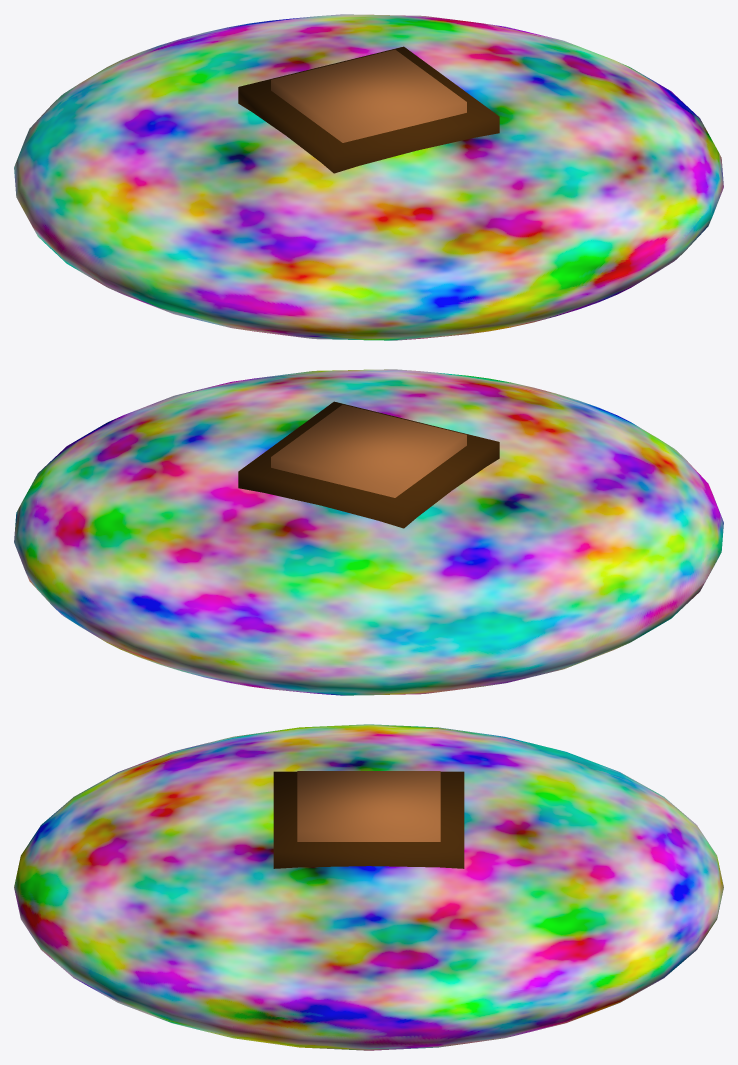
Rendered from plattformschalter.fbx.
The picture shows the model from 3 angles, top to bottom: view 1: azimuth 30°, elevation 25°; view 2: azimuth 150°, elevation 25°; view 3: azimuth 270°, elevation 25°; orthographic projection.
Parts seen in each view (by area): view 1: Sphere, Cube_001, Cube; view 2: Sphere, Cube_001, Cube; view 3: Sphere, Cube_001, Cube.
Boxes of the visible parts, box(x1,y1,x2,y2) form: Sphere: box(14, 14, 723, 340); Cube_001: box(271, 49, 466, 142); Cube: box(238, 46, 499, 173); Sphere: box(14, 369, 723, 695); Cube_001: box(271, 404, 466, 497); Cube: box(238, 401, 499, 528); Sphere: box(14, 724, 723, 1050); Cube_001: box(297, 771, 440, 841); Cube: box(273, 771, 464, 868).
Bounding box in the file's own units: 4.17 × 0.977 × 4.17.
Materials: 3 (1 with a texture image).
